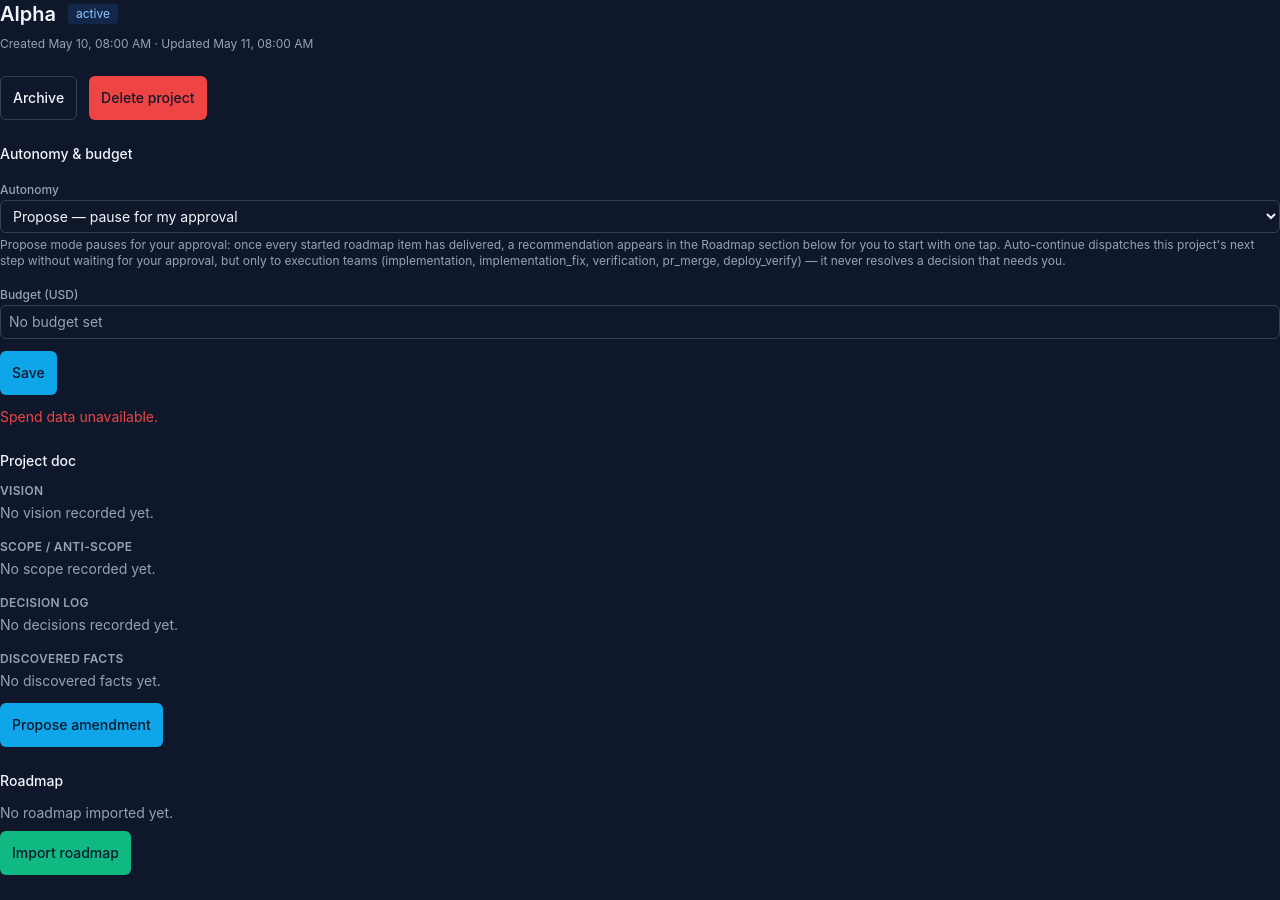
Project › propose-amendment action › Escape closes the propose-amendment modal
Click the button with test id "propose-amendment-button": x=81, y=725 [0, 703, 163, 747]
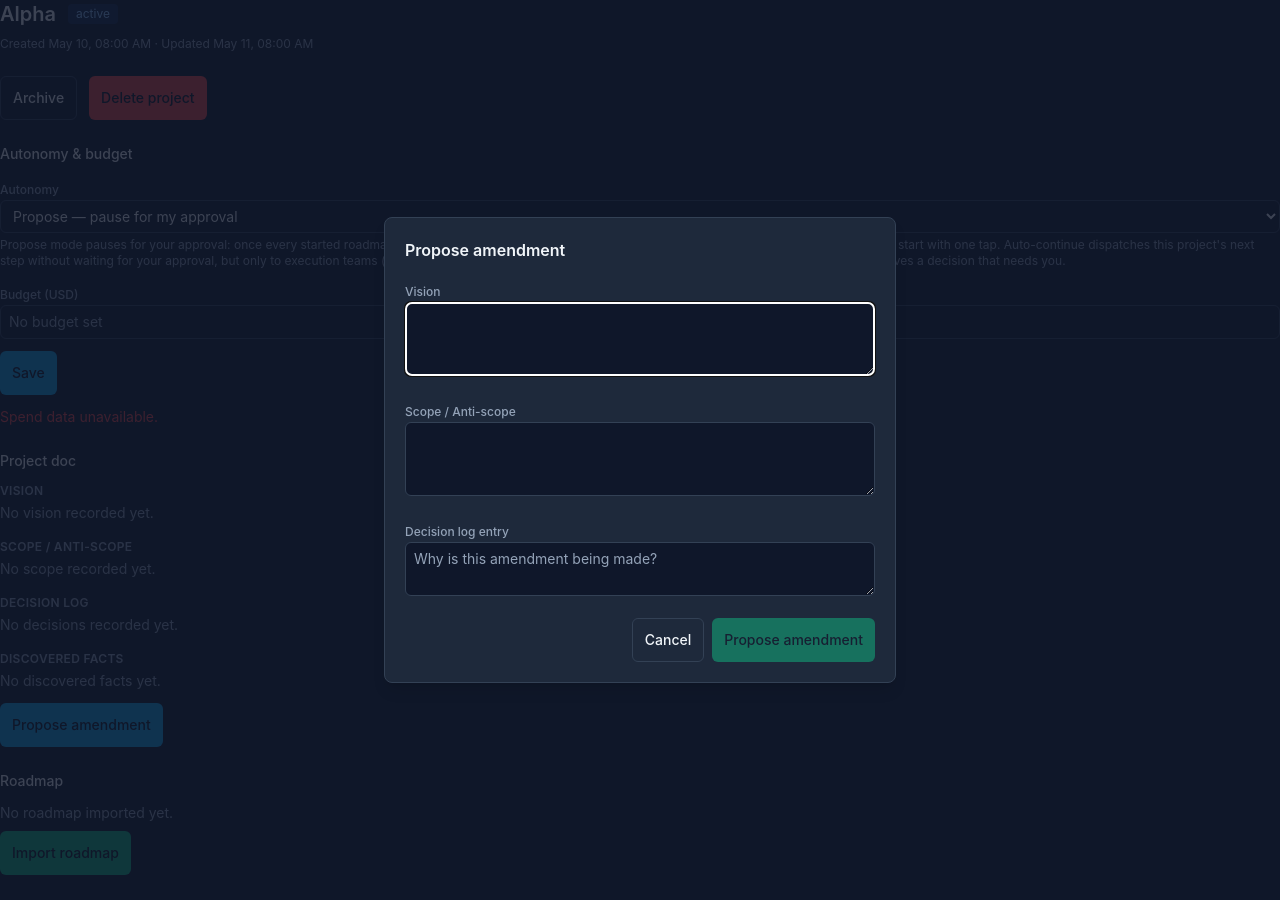
Press Escape in the form, box [385, 218, 895, 682]
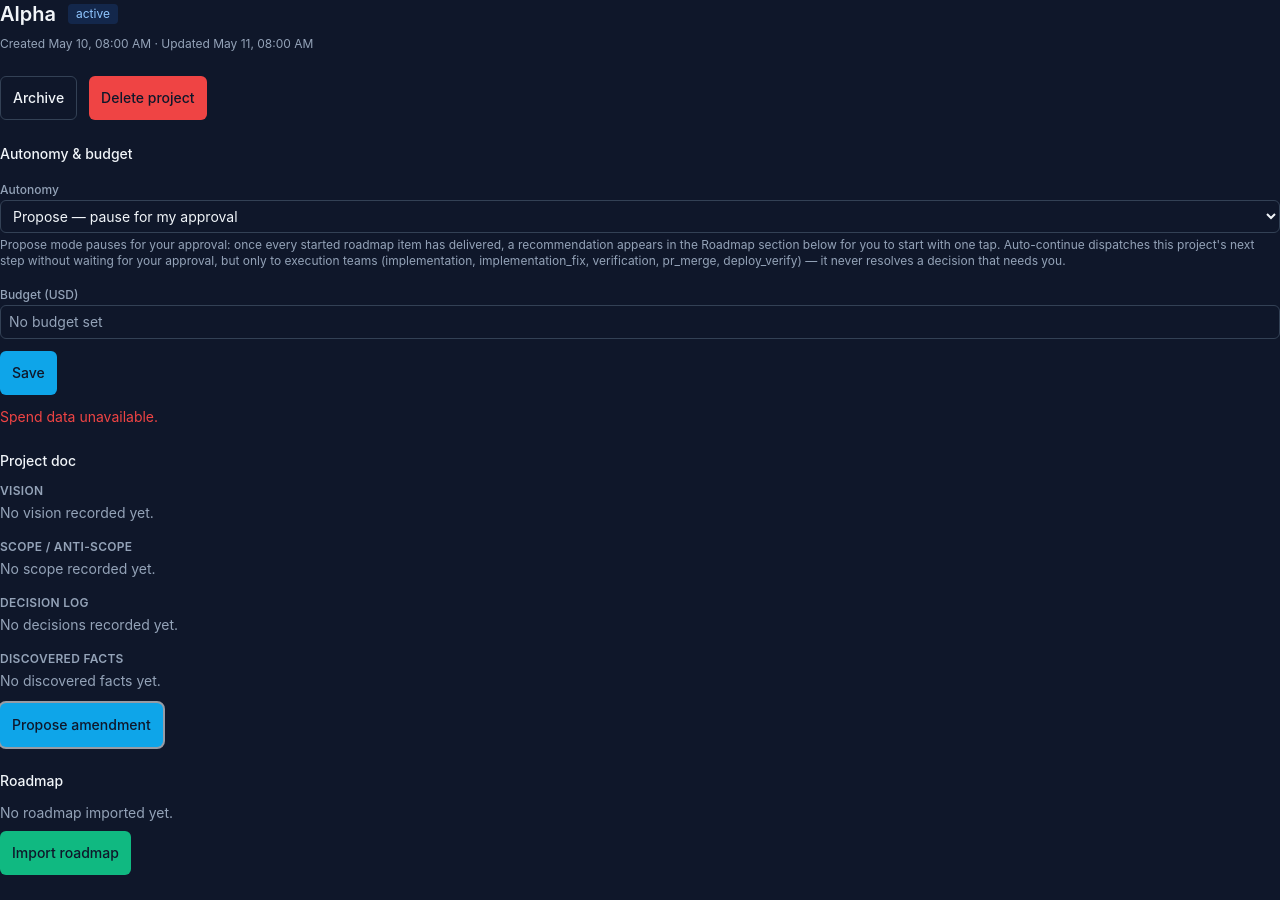
Expected: the dialog with test id "propose-amendment-dialog" is gone
